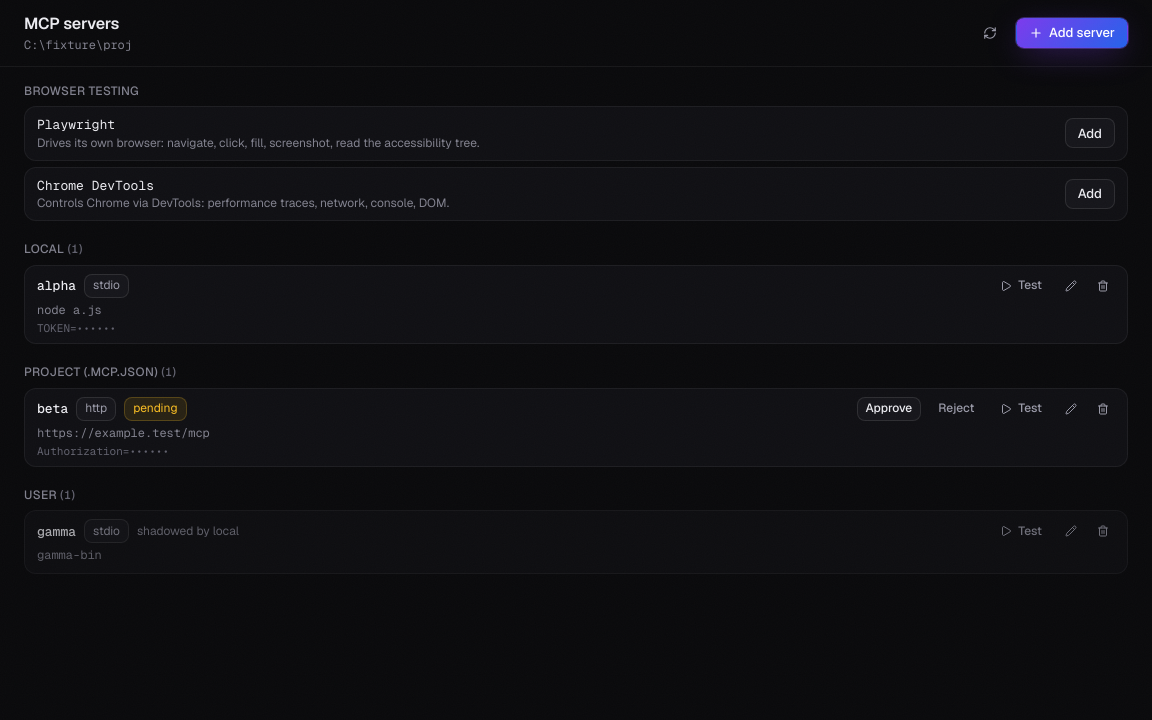
it: McpPage › test result chip: failed
The width and height of the screenshot is (1152, 720).
Expected: the text "alpha" is shown, [37, 276, 76, 295]
Click the button with aria-label "Test alpha". click: (1021, 286)
box: [991, 274, 1051, 298]
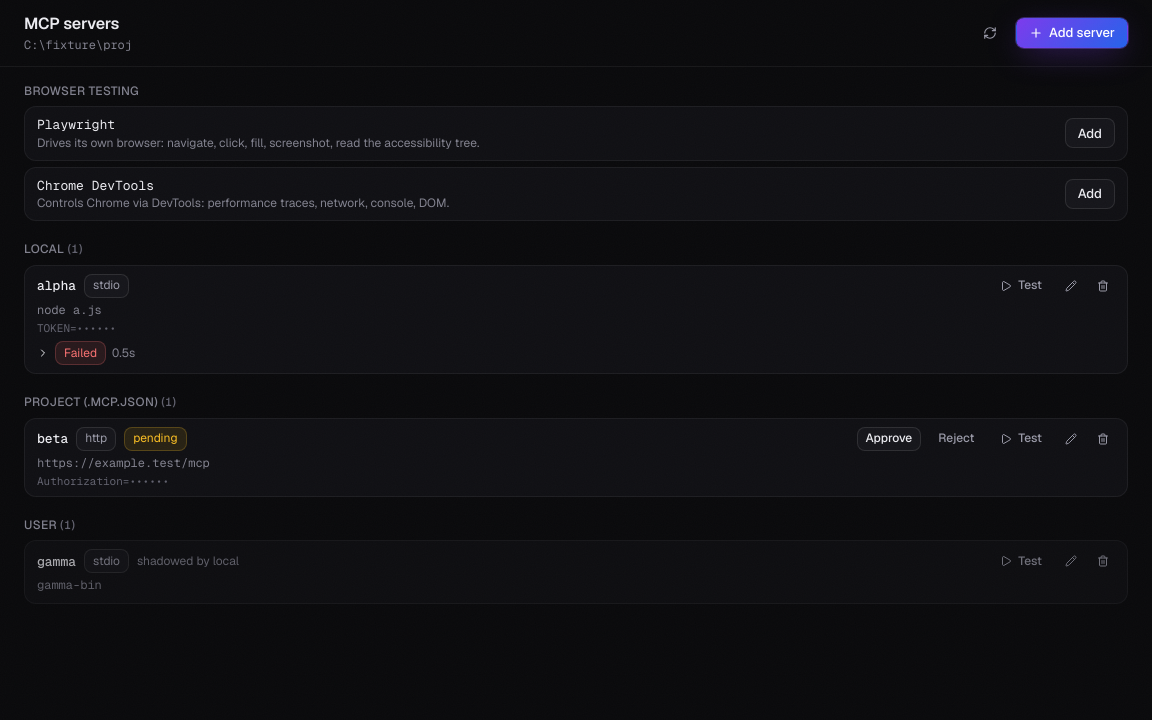
Expected: the text "Failed" is shown, [55, 341, 106, 365]
Click the button with aria-label "Toggle output for alpha". click: (86, 353)
box: [37, 341, 135, 365]
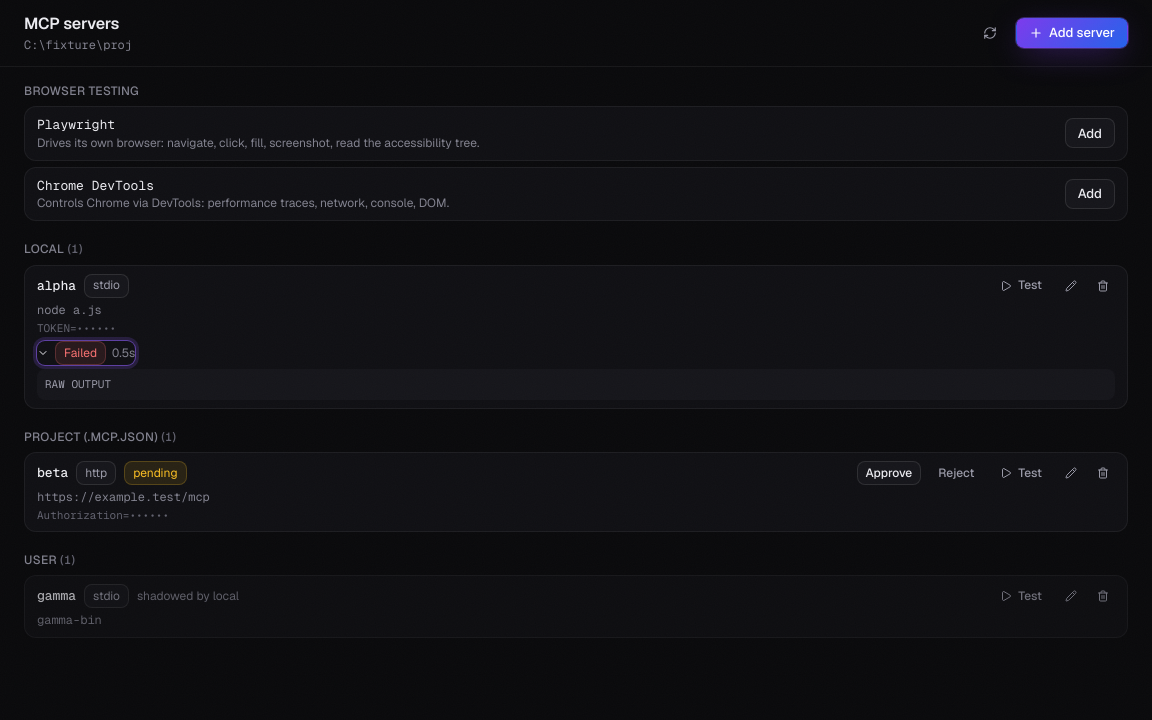
Expected: the text "RAW OUTPUT" is shown, [37, 369, 1115, 400]
